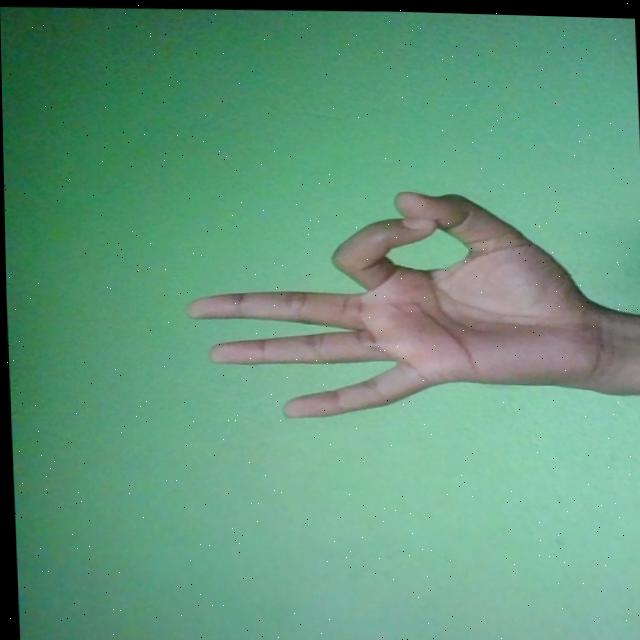Ok: (178, 181, 614, 424)
